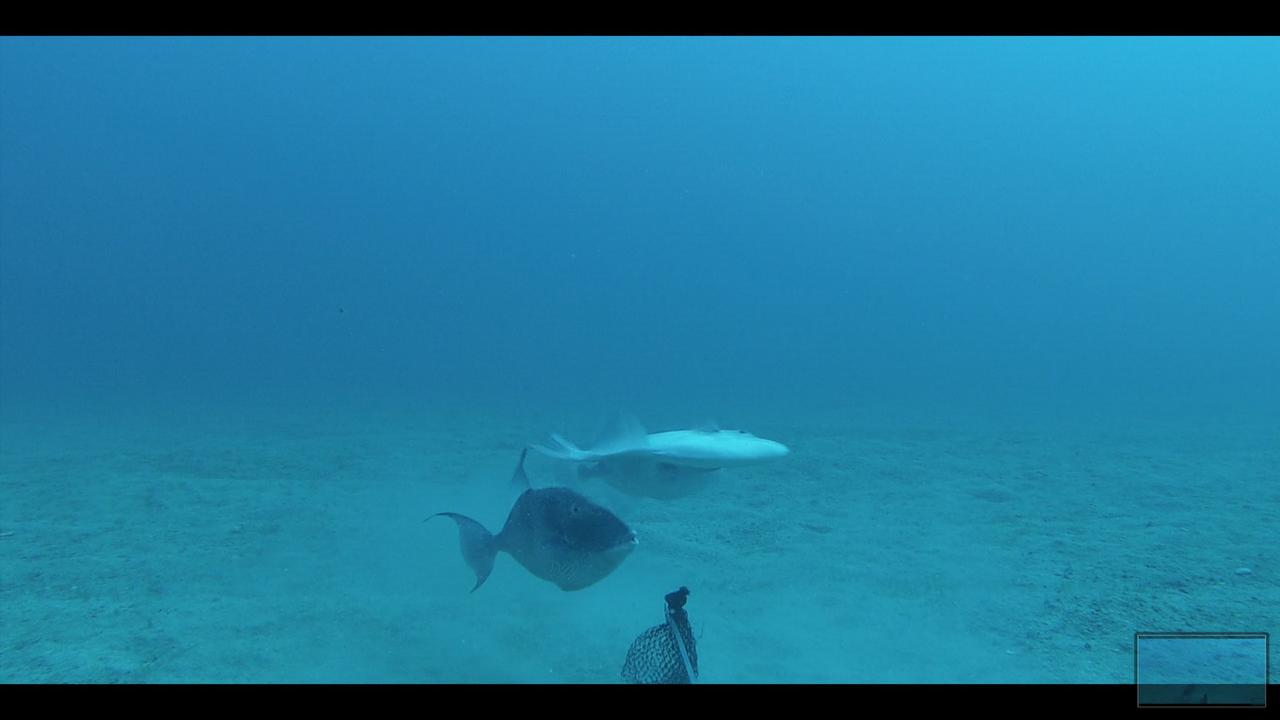balistes: (428, 448, 642, 595), (525, 417, 794, 465), (546, 448, 723, 500)
